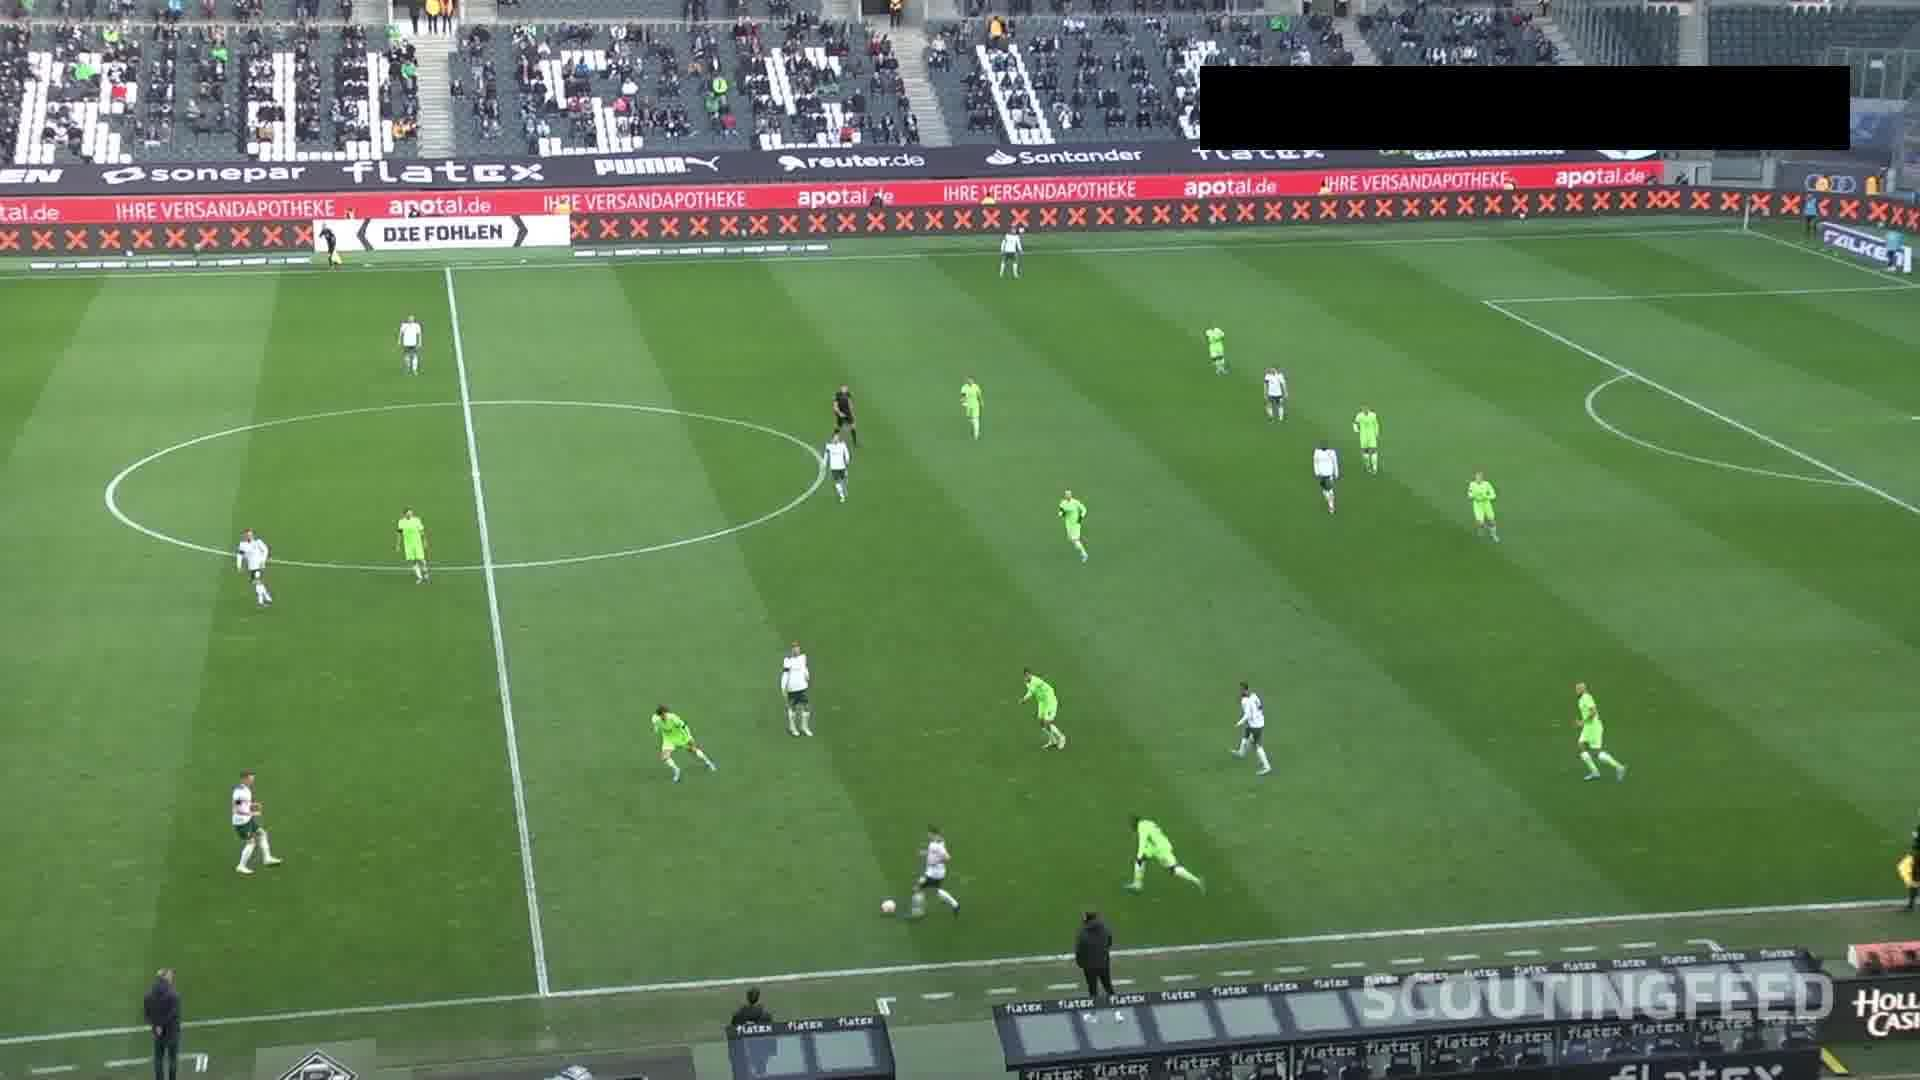football: (878, 895, 897, 914)
